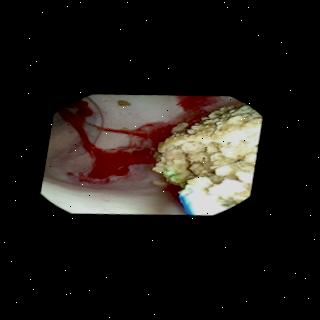fiber: (184, 190, 224, 216)
stone: (158, 109, 263, 208), (153, 181, 169, 188)
tissue: (48, 97, 222, 212)
